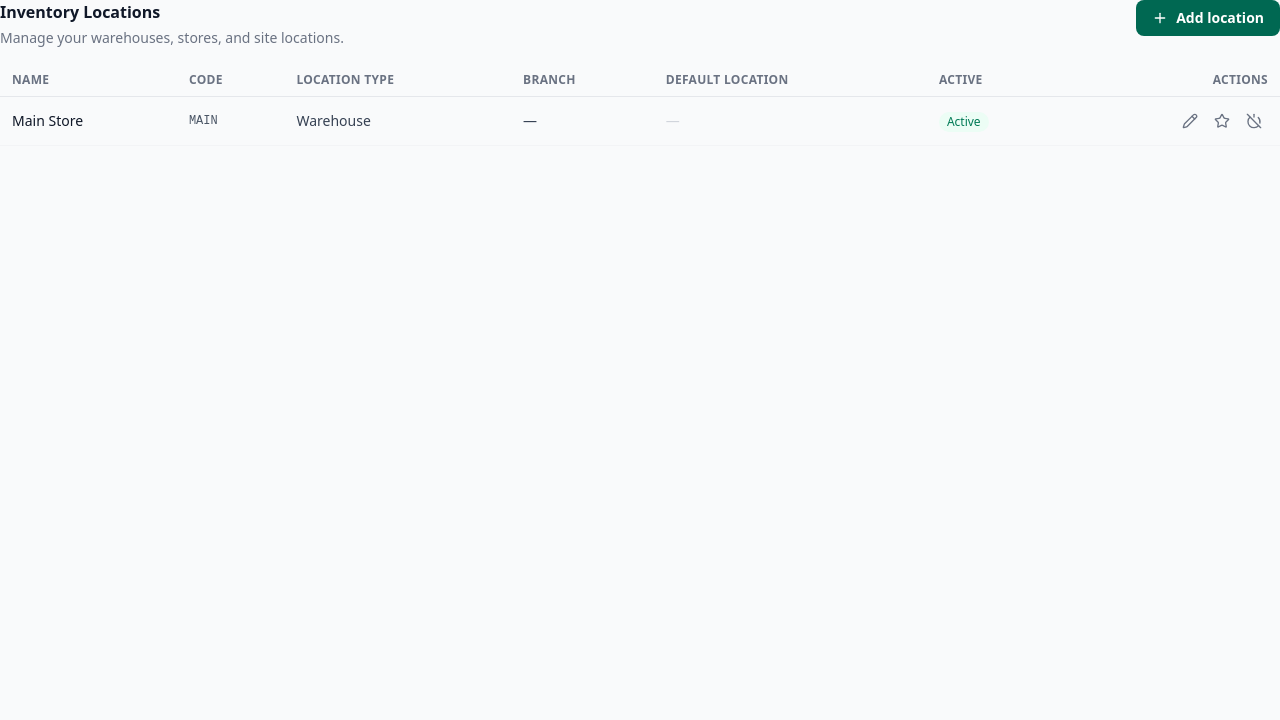
it: LocationsTab — safe deactivation flow › offers confirm only after the checks pass, then deactivates
Click the button with test id "location-deactivate-loc-1". click: x=1254, y=121
box: [1240,107,1268,135]
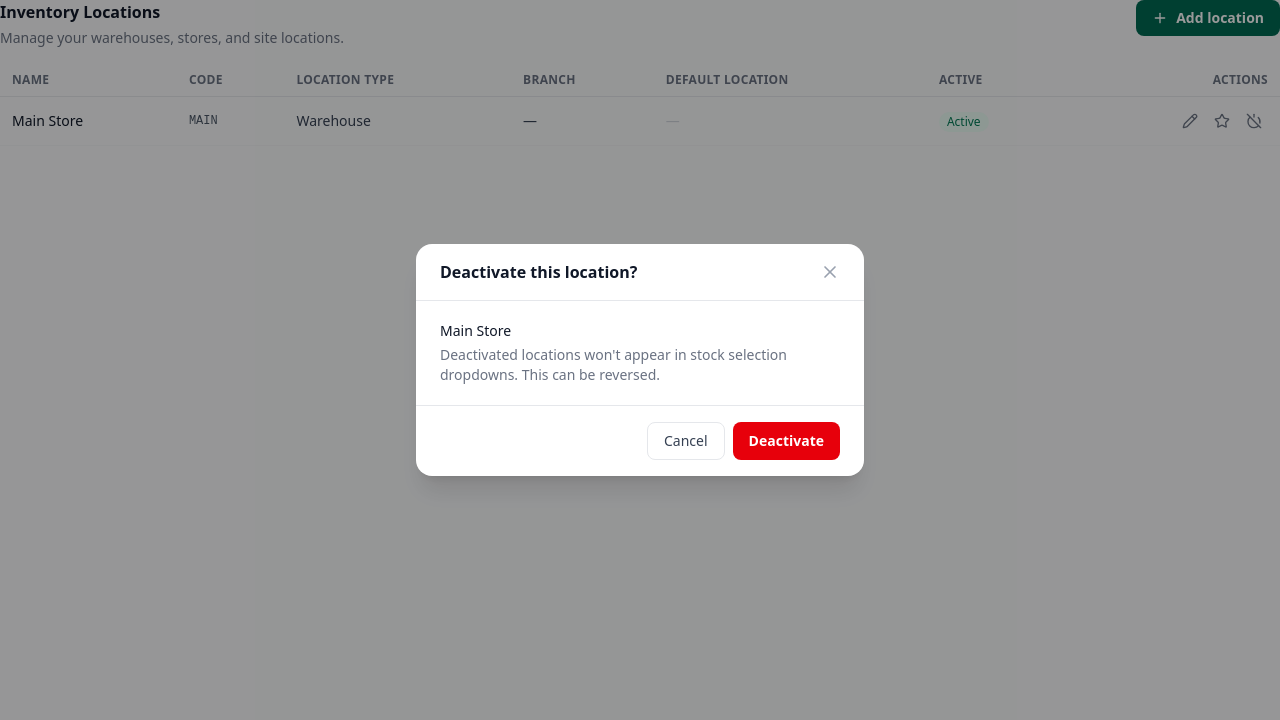
Check: the button with test id "deactivate-confirm" is enabled
Click the button with test id "deactivate-confirm". click: x=786, y=441
box: [733,422,840,460]
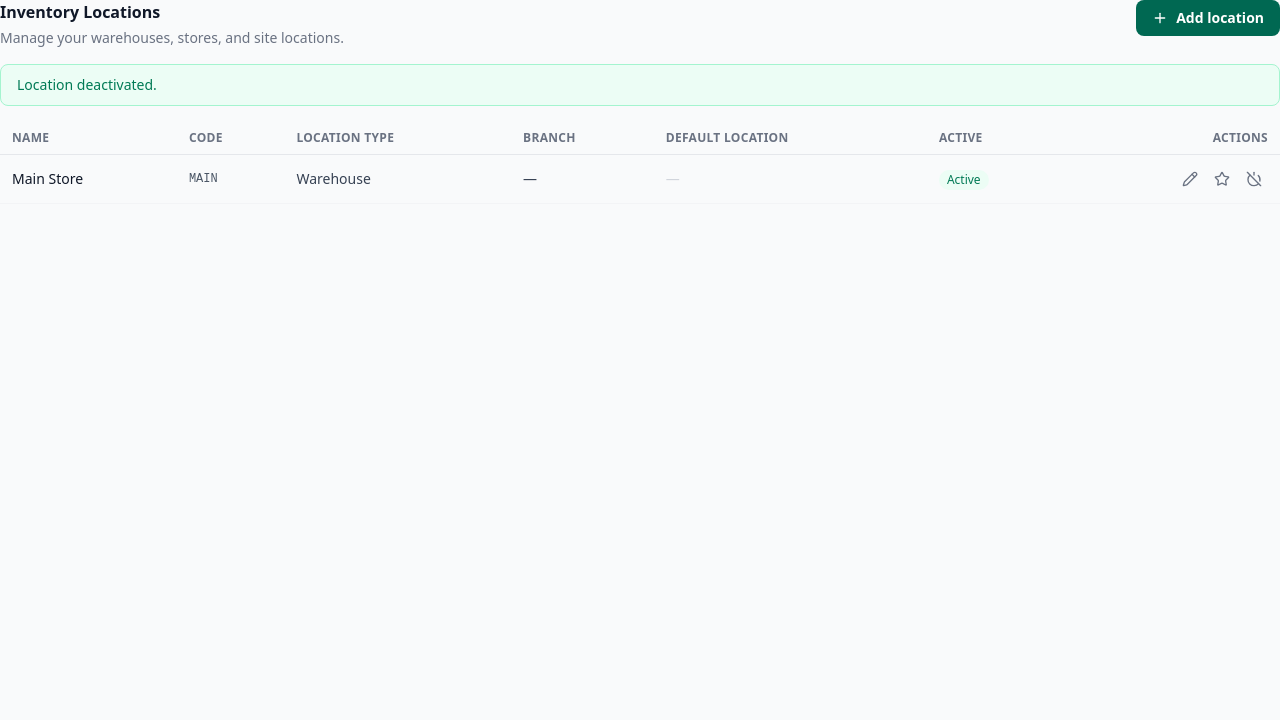
Check: the text "Location deactivated." is shown, box [0,64,1279,106]
